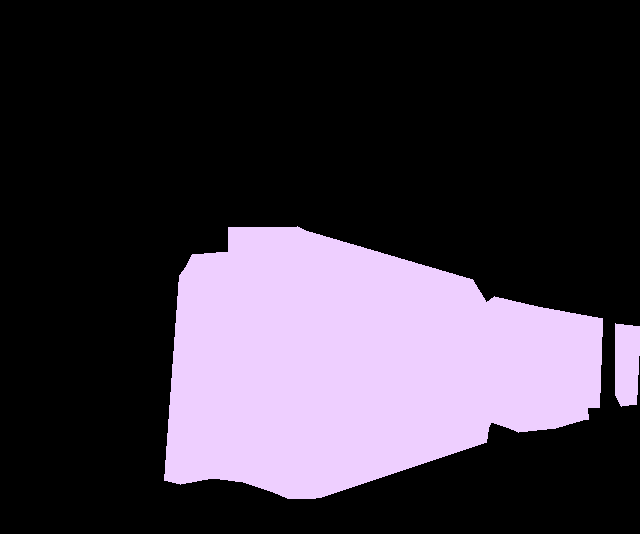Train: (164, 226, 640, 499)
